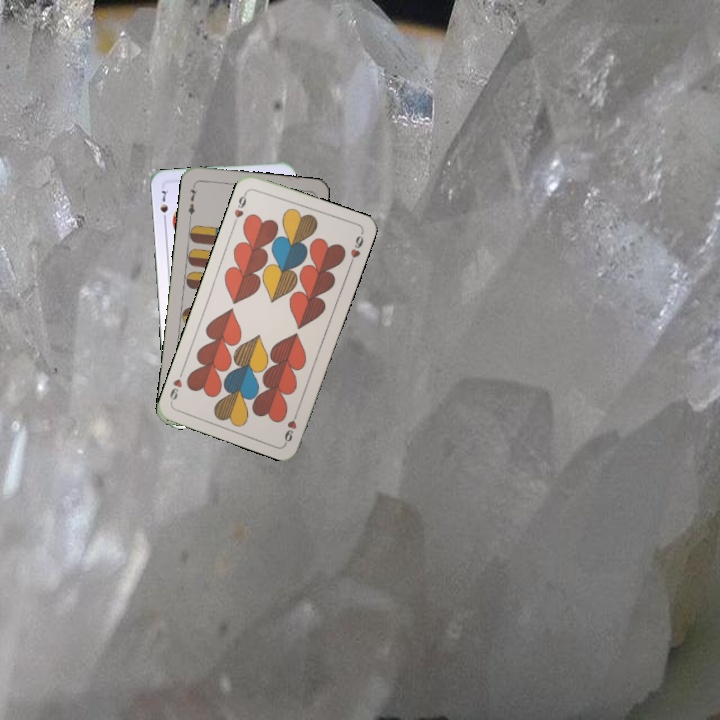E7: (184, 180, 199, 221)
H9: (280, 406, 301, 445), (230, 188, 250, 227)
S7: (156, 186, 171, 225)
